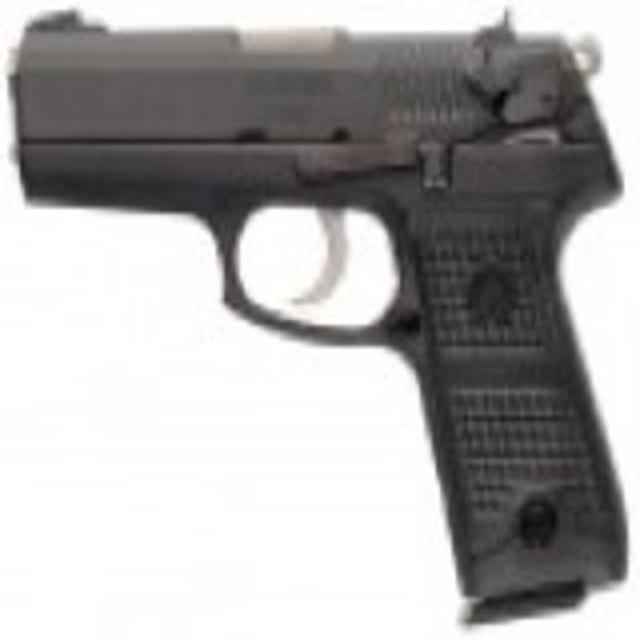pistol: (15, 5, 631, 612)
